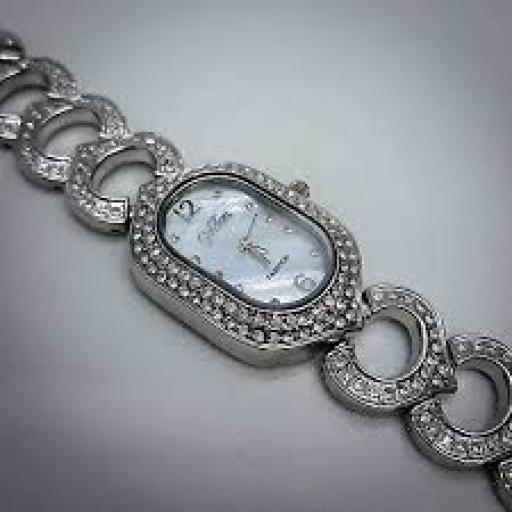KolSaati: (5, 29, 512, 497)
